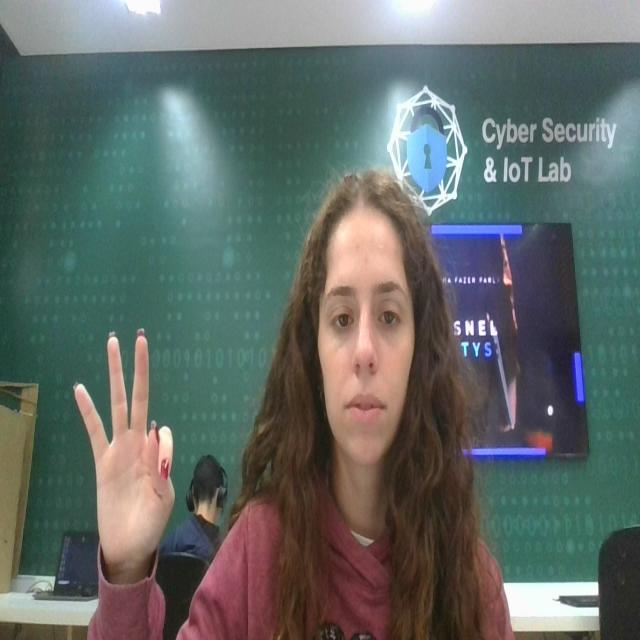T: (73, 314, 193, 574)
